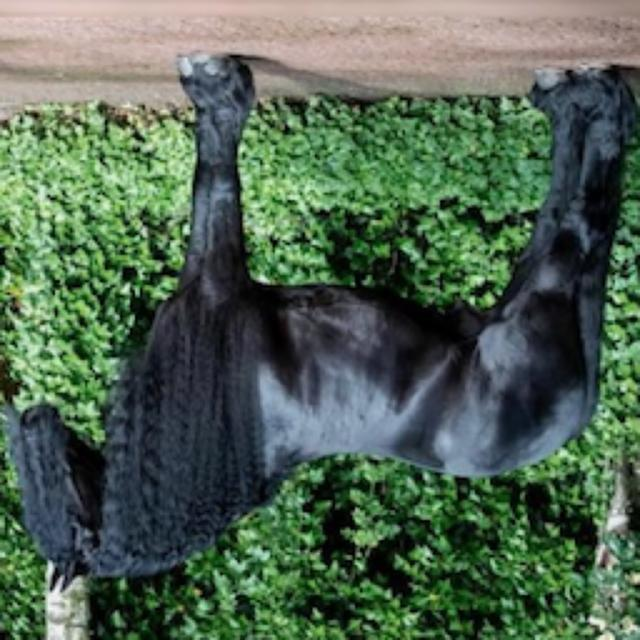Horse: (0, 48, 638, 600)
